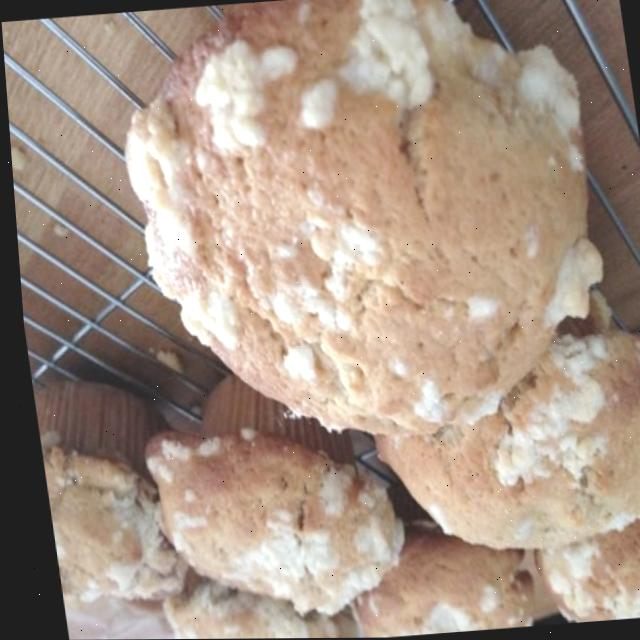炸货点心: (25, 0, 640, 640)
面包点心: (25, 0, 640, 640)
